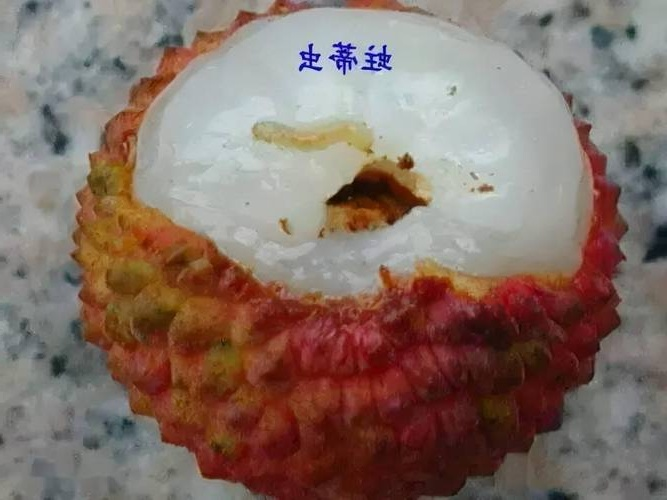Borer: (248, 116, 386, 148)
